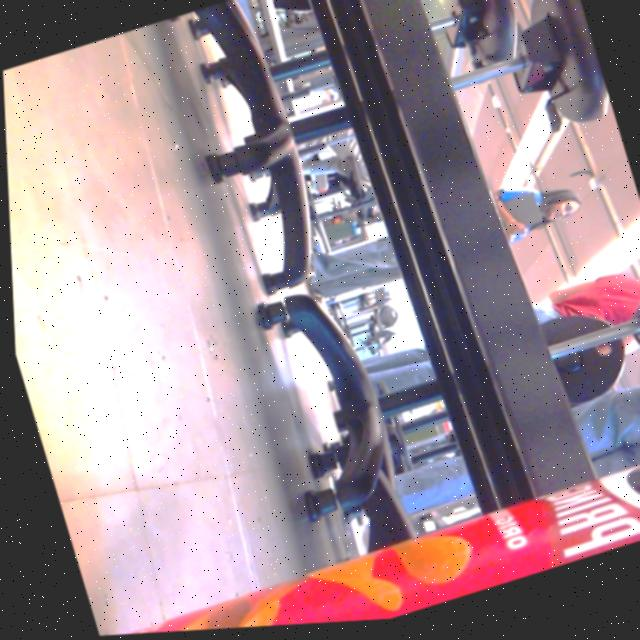redpringles: (84, 445, 640, 637)
